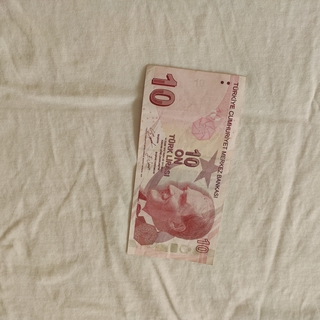10TLFront: (125, 63, 248, 266)
